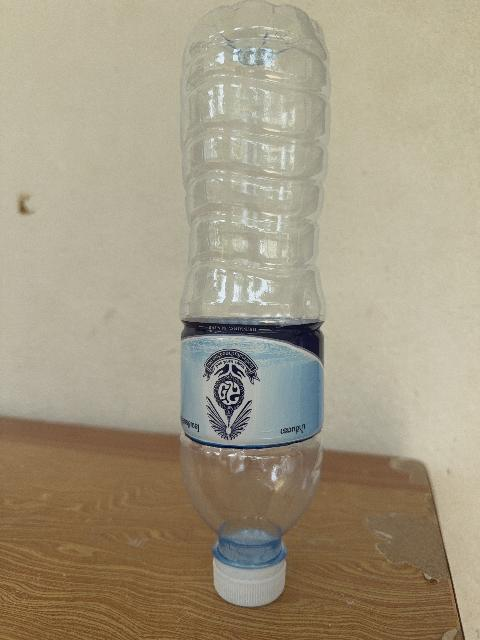bottle: (181, 0, 329, 606)
